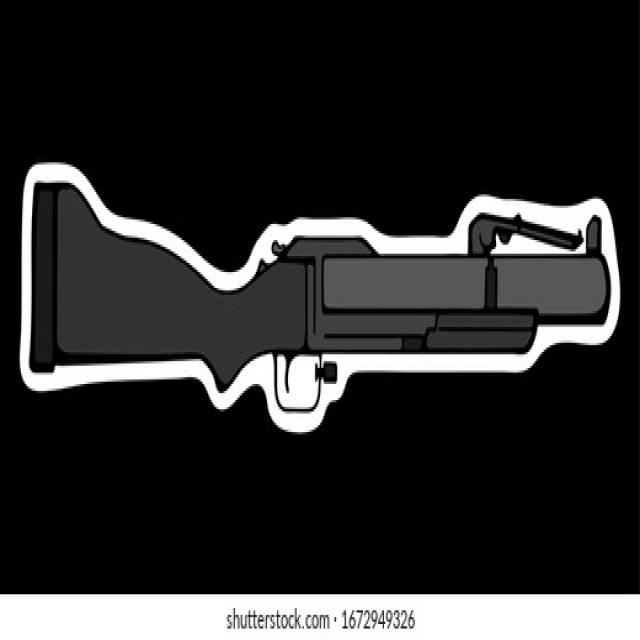Lancher: (14, 119, 634, 488)
